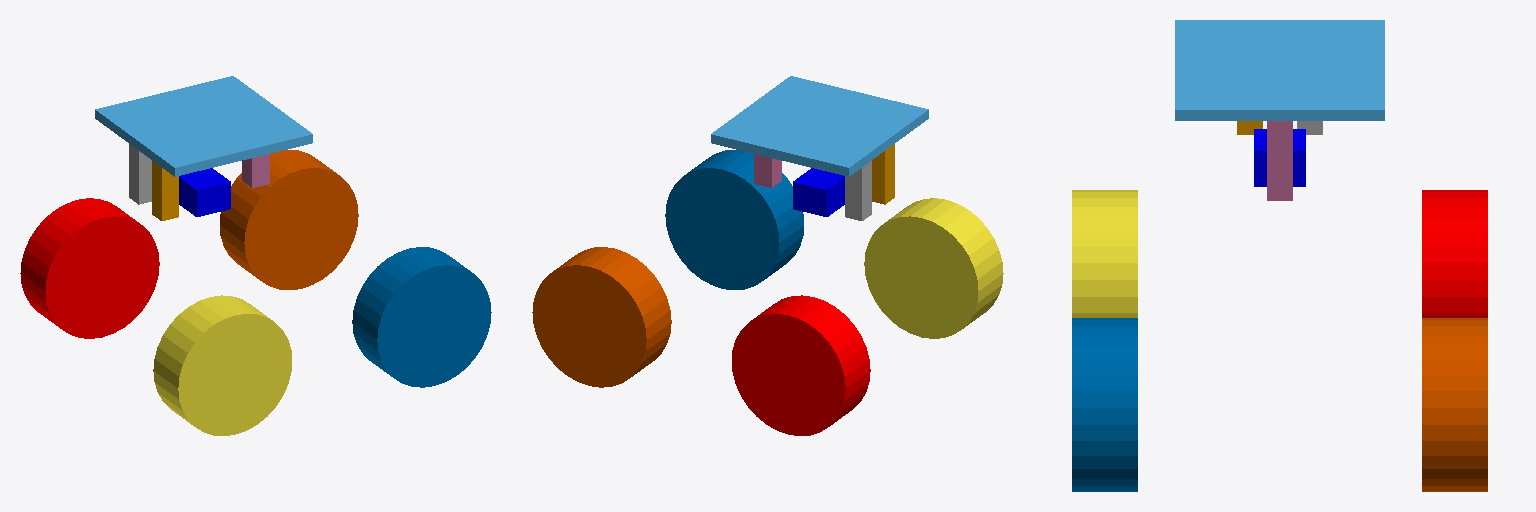
The robot description file, URDF, robot "box_bot":
<?xml version="1.0"?>
<robot name="box_bot">
        
  <material name="red">
      <color rgba="1.0 0.0 0.0 1"/>
  </material>

  <material name="green_light">
      <color rgba="0.0 1.0 0.0 1"/>
  </material>

  <material name="green_dark">
    <color rgba="0.0 0.5 0.0 1"/>
  </material>

  <material name="blue">
      <color rgba="0.0 0.0 1.0 1"/>
  </material>

  <material name="yellow">
      <color rgba="1.0 1.0 0.0 1"/>
  </material>

  <material name="black">
      <color rgba="0.0 0.0 0.0 1"/>
  </material>

  <material name="white">
      <color rgba="1.0 1.0 1.0 1"/>
  </material>

  <material name="box_bot_blue">
      <color rgba="0.088656 0.428691 0.491021 1"/>
  </material>

  <link name="base_footprint">
  </link>


  <!-- Body -->
  <link name="base_link">
    <visual>
      <geometry>
        <mesh filename="[local-path]/Desktop/aprendendo_ros2/src/pacote_de_exemplos/meshes/cute_cube.dae" scale="0.256 0.150 0.065"/>
      </geometry>
      <material name="box_bot_blue"/>
    </visual>

    <collision>
      <geometry>
        <box size="0.256 0.150 0.065"/>
      </geometry>
    </collision>

    <inertial>
      <mass value="0.5"/>
      <origin rpy="0 0 0" xyz="0 0 0"/>
      <inertia ixx="0.0008333333333333335" ixy="0" ixz="0" iyy="0.0008333333333333335" iyz="0" izz="0.0008333333333333335"/>
    </inertial>

  </link>

  <joint name="base_footprint_joint" type="fixed">
    <origin rpy="0 0 0" xyz="0 0 0.010" />
    <parent link="base_footprint" />
    <child link="base_link" />
  </joint>

  <!-- Wheel Left Behind -->
  <link name="left_wheel">      
      <visual>
        <origin rpy="0 1.5707 1.5707" xyz="0 0 0"/>
        <geometry>
          <cylinder length="0.025" radius="0.033"/>
        </geometry>
        <material name="red"/>
      </visual>

      <collision>
        <origin rpy="0 1.5707 1.5707" xyz="0 0 0"/>
        <geometry>
         <cylinder length="0.001" radius="0.001"/>
        </geometry>
      </collision>

      <inertial>
        <origin rpy="0 1.5707 1.5707" xyz="0 0 0"/>
        <mass value="0.05"/>
        <inertia ixx="1.531666666666667e-05" ixy="0" ixz="0" iyy="1.531666666666667e-05" iyz="0" izz="3.0625000000000006e-05"/>
      </inertial>

  </link>


  <joint name="joint_left_wheel" type="continuous">
    <origin rpy="0 0 0" xyz="-0.0575 0.0665 -0.03"/>
    <child link="left_wheel"/>
    <parent link="base_link"/>
    <axis rpy="0 0 0" xyz="0 1 0"/>
    <limit effort="10000" velocity="1000"/>
    <joint_properties damping="1.0" friction="1.0"/>
  </joint>

  <gazebo reference="left_wheel">
   <material>Gazebo/Black</material>
  </gazebo>

  <!-- Wheel Right Behind -->
  <link name="right_wheel">      
      <visual>
        <origin rpy="0 1.5707 1.5707" xyz="0 0 0"/>
        <geometry>
          <cylinder length="0.025" radius="0.033"/>
        </geometry>
        <material name="green"/>
      </visual>

      <collision>
        <origin rpy="0 1.5707 1.5707" xyz="0 0 0"/>
        <geometry>
          <cylinder length="0.001" radius="0.001"/>
        </geometry>
      </collision>

      <inertial>
        <origin rpy="0 1.5707 1.5707" xyz="0 0 0"/>
        <mass value="0.05"/>
        <inertia ixx="1.531666666666667e-05" ixy="0" ixz="0" iyy="1.531666666666667e-05" iyz="0" izz="3.0625000000000006e-05"/>
      </inertial>
  </link>

  <joint name="joint_right_wheel" type="continuous">
    <origin rpy="0 0 0" xyz="-0.0575 -0.0665 -0.03"/>
    <child link="right_wheel"/>
    <parent link="base_link"/>
    <axis rpy="0 0 0" xyz="0 1 0"/>
    <limit effort="10000" velocity="1000"/>
    <joint_properties damping="1.0" friction="1.0"/>
  </joint>

  <gazebo reference="right_wheel">
   <material>Gazebo/Black</material>
  </gazebo>


  <!-- Wheel Right Front -->
  <link name="right_wheel_f">      
      <visual>
        <origin rpy="0 1.5707 1.5707" xyz="0 0 0"/>
        <geometry>
          <cylinder length="0.025" radius="0.033"/>
        </geometry>
        <material name="green"/>
      </visual>

      <collision>
        <origin rpy="0 1.5707 1.5707" xyz="0 0 0"/>
        <geometry>
          <cylinder length="0.001" radius="0.001"/>
        </geometry>
      </collision>

      <inertial>
        <origin rpy="0 1.5707 1.5707" xyz="0 0 0"/>
        <mass value="0.05"/>
        <inertia ixx="1.531666666666667e-05" ixy="0" ixz="0" iyy="1.531666666666667e-05" iyz="0" izz="3.0625000000000006e-05"/>
      </inertial>
  </link>

  <gazebo reference="right_wheel_f">
   <material>Gazebo/Black</material>
  </gazebo>


  <joint name="joint_right_wheel_f" type="continuous">  
    <origin rpy="0 0 0" xyz="0.0575 -0.0665 -0.03"/>
    <child link="right_wheel_f"/>
    <parent link="base_link"/>
    <axis rpy="0 0 0" xyz="0 1 0"/>
    <limit effort="10000" velocity="1000"/>
    <joint_properties damping="1.0" friction="1.0"/>
  </joint>

  <!-- Wheel Left Front -->
  <link name="left_wheel_f">      
      <visual>
        <origin rpy="0 1.5707 1.5707" xyz="0 0 0"/>
        <geometry>
          <cylinder length="0.025" radius="0.033"/>
        </geometry>
        <material name="green"/>
      </visual>

      <collision>
        <origin rpy="0 1.5707 1.5707" xyz="0 0 0"/>
        <geometry>
          <cylinder length="0.001" radius="0.001"/>
        </geometry>
      </collision>

      <inertial>
        <origin rpy="0 1.5707 1.5707" xyz="0 0 0"/>
        <mass value="0.05"/>
        <inertia ixx="1.531666666666667e-05" ixy="0" ixz="0" iyy="1.531666666666667e-05" iyz="0" izz="3.0625000000000006e-05"/>
      </inertial>
  </link>

  <gazebo reference="left_wheel_f">
   <material>Gazebo/Black</material>
  </gazebo>


  <joint name="joint_left_wheel_f" type="continuous">  
    <origin rpy="0 0 0" xyz="0.0575 0.0665 -0.03"/>
    <child link="left_wheel_f"/>
    <parent link="base_link"/>
    <axis rpy="0 0 0" xyz="0 1 0"/>
    <limit effort="10000" velocity="1000"/>
    <joint_properties damping="1.0" friction="1.0"/>
  </joint>

  <!-- Diferential Robot Wheel Left  -->
  <link name="diff_wheel_L">      
      <collision>
        <origin rpy="0 1.5707 1.5707" xyz="0 0 0"/>
        <geometry>
          <cylinder length="0.025" radius="0.033"/>
        </geometry>
      </collision>

      <inertial>
        <origin rpy="0 1.5707 1.5707" xyz="0 0 0"/>
        <mass value="0.05"/>
        <inertia ixx="1.531666666666667e-05" ixy="0" ixz="0" iyy="1.531666666666667e-05" iyz="0" izz="3.0625000000000006e-05"/>
      </inertial>
  </link>


  <joint name="joint_diff_wheel_L" type="continuous">  
    <origin rpy="0 0 0" xyz="0 0.0665 -0.03"/>
    <child link="diff_wheel_L"/>
    <parent link="base_link"/>
    <axis rpy="0 0 0" xyz="0 1 0"/>
    <limit effort="10000" velocity="1000"/>
    <joint_properties damping="1.0" friction="1.0"/>
  </joint>

  <!-- Diferential Robot Wheel Right  -->
  <link name="diff_wheel_R">      
      <collision>
        <origin rpy="0 1.5707 1.5707" xyz="0 0 0"/>
        <geometry>
          <cylinder length="0.025" radius="0.033"/>
        </geometry>
      </collision>

      <inertial>
        <origin rpy="0 1.5707 1.5707" xyz="0 0 0"/>
        <mass value="0.05"/>
        <inertia ixx="1.531666666666667e-05" ixy="0" ixz="0" iyy="1.531666666666667e-05" iyz="0" izz="3.0625000000000006e-05"/>
      </inertial>
  </link>


  <joint name="joint_diff_wheel_R" type="continuous">  
    <origin rpy="0 0 0" xyz="0 -0.0665 -0.03"/>
    <child link="diff_wheel_R"/>
    <parent link="base_link"/>
    <axis rpy="0 0 0" xyz="0 1 0"/>
    <limit effort="10000" velocity="1000"/>
    <joint_properties damping="1.0" friction="1.0"/>
  </joint>

  <!-- Caster Wheel Front -->
  <link name="front_yaw_link">
      <collision>
        <origin rpy="0 1.5707 1.5707" xyz="0 0 0"/>
        <geometry>
          <cylinder length="0.01" radius="0.007"/>
        </geometry>
      </collision>

      <inertial>
          <origin rpy="0 1.5707 1.5707" xyz="0 0 0"/>
          <mass value="0.001"/>
          <inertia ixx="5.145833333333334e-09" ixy="0" ixz="0" iyy="5.145833333333334e-09" iyz="0" izz="1.0125000000000003e-08"/>
      </inertial>

  </link>

  <joint name="front_yaw_joint" type="continuous">
    <origin rpy="0 0 0" xyz="0.08 0 -0.055" />
    <parent link="base_link" />
    <child link="front_yaw_link" />
    <axis xyz="0 0 1" />
    <limit effort="1000.0" velocity="100.0" />
    <dynamics damping="0.0" friction="0.1"/>
  </joint>

    <gazebo reference="front_yaw_link">
        <material>Gazebo/Blue</material>
    </gazebo>



  <link name="front_roll_link">
      <collision>
        <origin rpy="0 1.5707 1.5707" xyz="0 0 0"/>
        <geometry>
          <cylinder length="0.01" radius="0.007"/>
        </geometry>
      </collision>

      <inertial>
          <origin rpy="0 1.5707 1.5707" xyz="0 0 0"/>
          <mass value="0.001"/>
          <inertia ixx="5.145833333333334e-09" ixy="0" ixz="0" iyy="5.145833333333334e-09" iyz="0" izz="1.0125000000000003e-08"/>
      </inertial>
  </link>

  <joint name="front_roll_joint" type="continuous">
    <origin rpy="0 0 0" xyz="0 0 0" />
    <parent link="front_yaw_link" />
    <child link="front_roll_link" />
    <axis xyz="1 0 0" />
    <limit effort="1000.0" velocity="100.0" />
    <dynamics damping="0.0" friction="0.1"/>
  </joint>

    <gazebo reference="front_roll_link">
        <material>Gazebo/Red</material>
    </gazebo>


  <link name="front_pitch_link">
    <collision>
      <origin rpy="0 1.5707 1.5707" xyz="0 0 0"/>
      <geometry>
        <sphere radius="0.010"/>
      </geometry>
    </collision>

    <inertial>
        <origin rpy="0 1.5707 1.5707" xyz="0 0 0"/>
        <mass value="0.001"/>
        <inertia ixx="4e-08" ixy="0" ixz="0" iyy="4e-08" iyz="0" izz="4e-08"/>
    </inertial>
  </link>

  <gazebo reference="front_pitch_link">
    <kp>1000000000000000000000000000.0</kp>
    <kd>1000000000000000000000000000.0</kd>
    <mu1>0.5</mu1>
    <mu2>0.5</mu2>
    <material>Gazebo/Purple</material>
  </gazebo>

  <joint name="front_pitch_joint" type="continuous">
    <origin rpy="0 0 0" xyz="0 0 0" />
    <parent link="front_roll_link" />
    <child link="front_pitch_link" />
    <axis xyz="0 1 0" />
    <limit effort="1000.0" velocity="100.0" />
    <dynamics damping="0.0" friction="0.1"/>
  </joint>

<!-- Caster Wheel Back -->
  <link name="back_yaw_link">
      <collision>
        <origin rpy="0 1.5707 1.5707" xyz="0 0 0"/>
        <geometry>
          <cylinder length="0.001" radius="0.0045000000000000005"/>
        </geometry>
      </collision>

      <inertial>
          <origin rpy="0 1.5707 1.5707" xyz="0 0 0"/>
          <mass value="0.001"/>
          <inertia ixx="5.145833333333334e-09" ixy="0" ixz="0" iyy="5.145833333333334e-09" iyz="0" izz="1.0125000000000003e-08"/>
      </inertial>
  </link>

  <joint name="back_yaw_joint" type="continuous">
    <origin rpy="0 0 0" xyz="-0.08 0 -0.055" />
    <parent link="base_link" />
    <child link="back_yaw_link" />
    <axis xyz="0 0 1" />
    <limit effort="1000.0" velocity="100.0" />
    <dynamics damping="0.0" friction="0.1"/>
  </joint>

    <gazebo reference="back_yaw_link">
        <material>Gazebo/Blue</material>
    </gazebo>



  <link name="back_roll_link">
      <collision>
        <origin rpy="0 1.5707 1.5707" xyz="0 0 0"/>
        <geometry>
          <cylinder length="0.001" radius="0.0045000000000000005"/>
        </geometry>
      </collision>

      <inertial>
          <origin rpy="0 1.5707 1.5707" xyz="0 0 0"/>
          <mass value="0.001"/>
          <inertia ixx="5.145833333333334e-09" ixy="0" ixz="0" iyy="5.145833333333334e-09" iyz="0" izz="1.0125000000000003e-08"/>
      </inertial>
  </link>

  <joint name="back_roll_joint" type="continuous">
    <origin rpy="0 0 0" xyz="0 0 0" />
    <parent link="back_yaw_link" />
    <child link="back_roll_link" />
    <axis xyz="1 0 0" />
    <limit effort="1000.0" velocity="100.0" />
    <dynamics damping="0.0" friction="0.1"/>
  </joint>

    <gazebo reference="back_roll_link">
        <material>Gazebo/Red</material>
    </gazebo>



  <link name="back_pitch_link">
    <collision>
      <origin rpy="0 1.5707 1.5707" xyz="0 0 0"/>
      <geometry>
        <sphere radius="0.010"/>
      </geometry>
    </collision>

    <inertial>
        <origin rpy="0 1.5707 1.5707" xyz="0 0 0"/>
        <mass value="0.001"/>
        <inertia ixx="4e-08" ixy="0" ixz="0" iyy="4e-08" iyz="0" izz="4e-08"/>
    </inertial>
  </link>

  <gazebo reference="back_pitch_link">
    <kp>1000000000000000000000000000.0</kp>
    <kd>1000000000000000000000000000.0</kd>
    <mu1>0.5</mu1>
    <mu2>0.5</mu2>
    <material>Gazebo/Yellow</material>
  </gazebo>

  <joint name="back_pitch_joint" type="continuous">
    <origin rpy="0 0 0" xyz="0 0 0" />
    <parent link="back_roll_link" />
    <child link="back_pitch_link" />
    <axis xyz="0 1 0" />
    <limit effort="1000.0" velocity="100.0" />
    <dynamics damping="0.0" friction="0.1"/>
  </joint>


    <!--Estrutura para base do LIDAR-->

  <!--Struct 1-->
  <joint name="struct1_joint" type="fixed">
    <parent link="base_link"/>
    <child link="struct1_link"/>
    <origin xyz="0.0 0.0 0.05"/>
    <axis xyz="0 0 0"/>
  </joint>
  <link name="struct1_link">
    <visual>
      <geometry>
          <box size="0.01 0.01 0.038"/>
      </geometry>
    </visual>


    <collision>
      <geometry>
        <box size="0.01 0.01 0.038"/>
      </geometry>
    </collision>


    <inertial>
      <mass value="0.5"/>
      <origin rpy="0 0 0" xyz="0 0 0"/>
      <inertia ixx="0.0008333333333333335" ixy="0" ixz="0" iyy="0.0008333333333333335" iyz="0" izz="0.0008333333333333335"/>
    </inertial>


  </link>

  <!--Struct 2-->
  <joint name="struct2_joint" type="fixed">
    <parent link="base_link"/>
    <child link="struct2_link"/>
    <origin xyz="-0.059 0.0115 0.05"/>
    <axis xyz="0 0 0"/>
  </joint>
  <link name="struct2_link">
    <visual>
      <geometry>
          <box size="0.01 0.01 0.038"/>
      </geometry>

    </visual>


    <collision>
      <geometry>
        <box size="0.01 0.01 0.038"/>
      </geometry>
    </collision>


    <inertial>
      <mass value="0.5"/>
      <origin rpy="0 0 0" xyz="0 0 0"/>
      <inertia ixx="0.0008333333333333335" ixy="0" ixz="0" iyy="0.0008333333333333335" iyz="0" izz="0.0008333333333333335"/>
    </inertial>


  </link>

  <!--Struct 3-->
  <joint name="struct3_joint" type="fixed">
    <parent link="base_link"/>
    <child link="struct3_link"/>
    <origin xyz="-0.059 -0.0115 0.05"/>
    <axis xyz="0 0 0"/>
  </joint>
  <link name="struct3_link">
    <visual>
      <geometry>
          <box size="0.01 0.01 0.038"/>
      </geometry>
    </visual>


    <collision>
      <geometry>
        <box size="0.01 0.01 0.038"/>
      </geometry>
    </collision>


    <inertial>
      <mass value="0.5"/>
      <origin rpy="0 0 0" xyz="0 0 0"/>
      <inertia ixx="0.0008333333333333335" ixy="0" ixz="0" iyy="0.0008333333333333335" iyz="0" izz="0.0008333333333333335"/>
    </inertial>


  </link>

  <!--Base do LIDAR-->
  <joint name="lidarB_joint" type="fixed">
    <parent link="struct1_link"/>
    <child link="lidarB_link"/>
    <origin xyz="-0.03 0.0 0.019"/>
    <axis xyz="0 0 0"/>
  </joint>
  <link name="lidarB_link">


    <visual>
      <geometry>
          <box size="0.08 0.08 0.005"/>
      </geometry>
    </visual>


    <collision>
      <geometry>
        <box size="0.08 0.08 0.005"/>
      </geometry>
    </collision>


    <inertial>
      <mass value="0.5"/>
      <origin rpy="0 0 0" xyz="0 0 0"/>
      <inertia ixx="0.0008333333333333335" ixy="0" ixz="0" iyy="0.0008333333333333335" iyz="0" izz="0.0008333333333333335"/>
    </inertial>
  </link>

  <!--LIDAR-->
  <joint name="lidar_joint" type="fixed">
    <parent link="lidarB_link"/>
    <child link="lidar_link"/>
    <origin xyz="0.0 0.0 0.020"/>
    <axis xyz="0 0 0"/>
  </joint>

  <link name="lidar_link">


    <visual>
      <geometry>
        <mesh filename="[local-path]/Desktop/aprendendo_ros2/src/pacote_de_exemplos/meshes/sensors/rplidar.dae" scale="1.0 1.0 1.0"/>
      </geometry>
      <material name="black"/>
    </visual>


    <collision>
      <geometry>
        <box size="0.05 0.05 0.030"/>
      </geometry>
    </collision>
      
    
    <inertial>
      <mass value="0.5"/>
      <origin rpy="0 0 0" xyz="0 0 0"/>
      <inertia ixx="0.0008333333333333335" ixy="0" ixz="0" iyy="0.0008333333333333335" iyz="0" izz="0.0008333333333333335"/>
    </inertial>

  </link>

  <!--Gyro-->
  <joint name="gyro_joint" type="fixed">
    <parent link="base_link"/>
    <child link="gyro_link"/>
    <origin xyz="-0.03 0.0 0.0325"/>
    <axis xyz="0 0 0"/>
  </joint>


  <link name="gyro_link">
    <visual>
      <geometry>
          <box size="0.02 0.02 0.015"/>
      </geometry>
      <material name="blue"/>
    </visual>


    <collision>
      <geometry>
        <box size="0.02 0.02 0.015"/>
      </geometry>
    </collision>
      


    <inertial>
      <mass value="0.5"/>
      <origin rpy="0 0 0" xyz="0 0 0"/>
      <inertia ixx="0.0008333333333333335" ixy="0" ixz="0" iyy="0.0008333333333333335" iyz="0" izz="0.0008333333333333335"/>
    </inertial>
  </link>


  <!--Plugins-->

  <!-- <gazebo>
    <plugin name="joint" filename="libgazebo_ros_joint_state_publisher.so">
    <ros>
        <remapping>~/out:=joint_states</remapping>
    </ros>
    <updateRate>30</updateRate>

    <joint_name>joint_left_wheel_f</joint_name>
    <joint_name>joint_right_wheel_f</joint_name>
    <joint_name>joint_left_wheel</joint_name>
    <joint_name>joint_right_wheel</joint_name>
    <joint_name>joint_diff_wheel_L</joint_name>
    <joint_name>joint_diff_wheel_R</joint_name>
    <joint_name>front_yaw_joint</joint_name>
    <joint_name>back_yaw_joint</joint_name>
    <joint_name>front_roll_joint</joint_name>
    <joint_name>back_roll_joint</joint_name>
    <joint_name>front_pitch_joint</joint_name>
    <joint_name>back_pitch_joint</joint_name>
    <joint_name>base_footprint_joint</joint_name>
    


    

    </plugin>
  </gazebo> -->


  <gazebo reference="lidar_link">
    <sensor type="ray" name="head_hokuyo_sensor">
        <visualize>false</visualize>
        <updateRate>30</updateRate>
        <ray>
            <scan>
              <horizontal>
                <samples>920</samples>
                <resolution>1</resolution>
                <min_angle>-3.14</min_angle>
                <max_angle>3.14</max_angle>
              </horizontal>
            </scan>
            <range>
              <min>0.1</min>
              <max>40.0</max>
              <resolution>0.05</resolution>
            </range>
            <noise>
              <type>gaussian</type>
              <mean>0.0</mean>
              <stddev>0.01</stddev>
            </noise>
        </ray>

        <plugin name="gazebo_ros_head_hokuyo_controlle" filename="libgazebo_ros_ray_sensor.so" >
        <ros>
          <remapping>~/out:=/scan</remapping>                                                               
        </ros>
        <output_type>sensor_msgs/LaserScan</output_type>
        </plugin>
    </sensor>
  </gazebo>

  <gazebo reference="gyro_link">
    <gravity>true</gravity>
    <sensor name="imu_sensor" type="imu">
      <always_on>true</always_on>
      <update_rate>100</update_rate>
      <visualize>true</visualize>
      <topic>imu</topic>
      <plugin filename="libgazebo_ros_imu_sensor.so" name="imu_plugin">
        <ros>
          <remapping>~/out:=/imu</remapping>                                                               
        </ros>
        <output_type>sensor_msgs/Imu</output_type>
        <bodyName>imu_link</bodyName>
        <updateRateHZ>10.0</updateRateHZ>
        <gaussianNoise>0.0</gaussianNoise>
        <xyzOffset>0 0 0</xyzOffset>
        <rpyOffset>0 0 0</rpyOffset>
        <frameName>imu_link</frameName>
        <initialOrientationAsReference>false</initialOrientationAsReference>
      </plugin>
      <pose>0 0 0 0 0 0</pose>
    </sensor>
  </gazebo>  


  <!-- <gazebo>
    <plugin name="SkidSteerDrivePlugin"
            filename="libgazebo_ros_skid_steer_drive.so">
        <dds_domain_id>0</dds_domain_id>
        <topic_name_twist>cmd_vel</topic_name_twist>
        <topic_name_odometry>odom</topic_name_odometry>
        <topic_name_joint>joint_states</topic_name_joint>
        <right_front_joint>joint_right_wheel_f</right_front_joint>
        <right_rear_joint>joint_right_wheel</right_rear_joint>
        <left_front_joint>joint_left_wheel_f</left_front_joint>
        <left_rear_joint>joint_left_wheel</left_rear_joint>
        <wheel_separation>0.4</wheel_separation>
        <wheel_diameter>0.15</wheel_diameter>
        <wheel_torque>5.0</wheel_torque>
        <update_rate>2</update_rate>
        <covariance_x>0.0001</covariance_x>
        <covariance_y>0.0001</covariance_y>
        <covariance_yaw>0.01</covariance_yaw>
    </plugin>
  </gazebo> -->

    <!-- Differential drive -->
  <gazebo>
    <plugin filename="libgazebo_ros_diff_drive.so" name="differential_drive_controller">

      <updateRate>30</updateRate>

      <!-- wheels -->
      <left_joint>joint_diff_wheel_L</left_joint>
      <right_joint>joint_diff_wheel_R</right_joint>

      <!-- kinematics -->
      <wheel_separation>0.166</wheel_separation>
      <wheel_diameter>0.07</wheel_diameter>

      <!-- limits -->
      <max_wheel_torque>1.0</max_wheel_torque>
      <max_wheel_acceleration>2.0</max_wheel_acceleration>


      <!-- output -->
      <publish_odom>true</publish_odom>
      <publish_odom_tf>true</publish_odom_tf>
      <publish_wheel_tf>true</publish_wheel_tf>

      <odometry_frame>odom</odometry_frame>
      <robotBaseFrame>base_link</robotBaseFrame>

    </plugin>
  </gazebo>



</robot>

--- What the picture shows (computed from the rendered views, not written in the file) ---
The picture shows the robot from 3 angles, left to right: view 1: azimuth 30°, elevation 25°; view 2: azimuth 150°, elevation 25°; view 3: azimuth 270°, elevation 25°; orthographic projection.
Model box_bot with 20 links and 19 joints (12 continuous, 7 fixed), rooted at base_footprint, posed every joint at zero.
Links seen in each view (by area): view 1: left_wheel, right_wheel_f, right_wheel, left_wheel_f, lidarB_link, gyro_link, struct3_link, struct2_link, struct1_link; view 2: right_wheel, left_wheel_f, left_wheel, right_wheel_f, lidarB_link, gyro_link, struct2_link, struct3_link, struct1_link; view 3: lidarB_link, right_wheel_f, left_wheel_f, left_wheel, right_wheel, struct1_link, gyro_link.
Boxes of the visible links, left/top/right/bottom form: left_wheel: left=20, top=198, right=159, bottom=338; right_wheel_f: left=352, top=247, right=491, bottom=387; right_wheel: left=153, top=295, right=291, bottom=435; left_wheel_f: left=220, top=150, right=358, bottom=289; lidarB_link: left=95, top=76, right=312, bottom=176; gyro_link: left=179, top=168, right=230, bottom=216; struct3_link: left=152, top=161, right=178, bottom=220; struct2_link: left=129, top=144, right=151, bottom=204; struct1_link: left=242, top=154, right=269, bottom=187; right_wheel: left=864, top=198, right=1003, bottom=338; left_wheel_f: left=532, top=247, right=671, bottom=387; left_wheel: left=732, top=295, right=870, bottom=435; right_wheel_f: left=665, top=150, right=803, bottom=289; lidarB_link: left=711, top=76, right=928, bottom=176; gyro_link: left=793, top=168, right=844, bottom=216; struct2_link: left=845, top=161, right=871, bottom=220; struct3_link: left=872, top=144, right=894, bottom=204; struct1_link: left=754, top=154, right=781, bottom=187; lidarB_link: left=1175, top=20, right=1384, bottom=120; right_wheel_f: left=1072, top=318, right=1137, bottom=491; left_wheel_f: left=1422, top=318, right=1487, bottom=491; left_wheel: left=1422, top=190, right=1487, bottom=317; right_wheel: left=1072, top=190, right=1137, bottom=317; struct1_link: left=1267, top=121, right=1292, bottom=200; gyro_link: left=1254, top=129, right=1305, bottom=186.
Size in the robot's own frame: 0.181 by 0.158 by 0.1345 metres.
Geometry: only primitive shapes (box / cylinder / sphere) drawn; not drawn: 2 mesh visuals (reference in a form the renderer does not follow).
